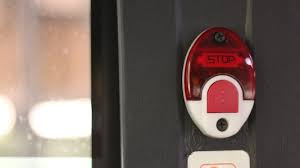bell: (182, 26, 257, 138)
